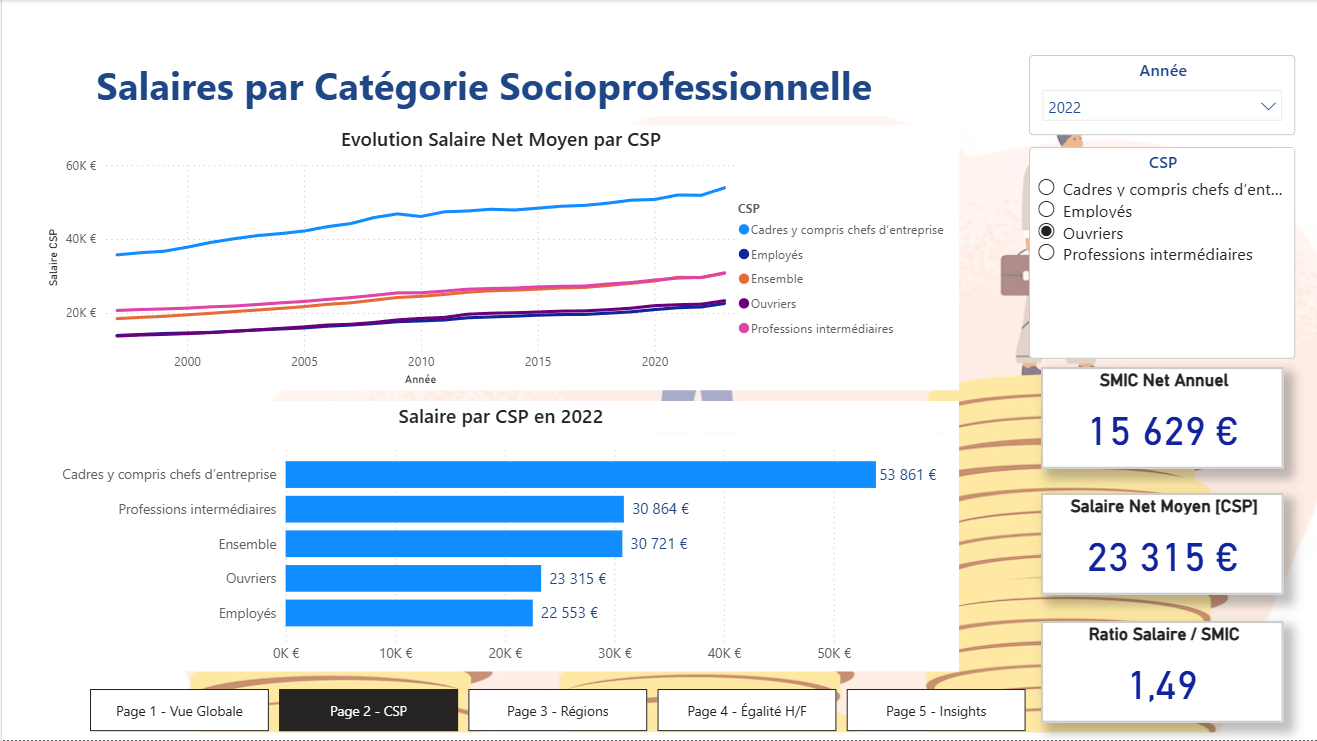

The dashboard page shown, as its layout file describes it:
{"tool":"powerbi","page":{"name":"Page 2 - CSP","canvas":[1280,720],"ordinal":1},"visuals":[{"type":"lineChart","title":"Evolution Salaire Net Moyen par CSP","fields":{"Y":["_Measure.Salaire CSP"],"Category":["SMIC.Date"],"Series":["Dim_CSP.Libelle"]},"box":[39.9,121.6,890.9,257.8],"z":0},{"type":"listSlicer","title":"CSP","fields":{"Values":["Dim_CSP.Libelle"]},"box":[998.6,142.5,259.3,205.9],"z":1000},{"type":"card","title":"Salaire Net Moyen [CSP]","fields":{"Values":["_Measure.Salaire CSP"]},"box":[1010.5,480,235.5,99],"z":2000},{"type":"card","title":"SMIC Net Annuel","fields":{"Values":["_Measure.SMIC"]},"box":[1010.5,357.3,235.5,99],"z":3000},{"type":"card","title":"Ratio Salaire / SMIC","fields":{"Values":["_Measure.Ratio Salaire CSP/Smic"]},"box":[1010.5,603.7,235.5,99],"z":4000},{"type":"textbox","box":[25.7,34.6,887.8,78.2],"z":5000},{"type":"slicer","title":"Année","fields":{"Values":["_Calendrier.Annee"]},"box":[998.6,53.4,259.3,78.2],"z":6000},{"type":"clusteredBarChart","title":"Salaire par CSP","fields":{"Category":["Dim_CSP.Libelle"],"Y":["_Measure.Salaire CSP"]},"box":[39.9,422.1,890.9,231.5],"z":7000},{"type":"card","fields":{"Values":["_Measure.Titre Dyna Bart Chart CSP"]},"box":[39.9,390,890.9,32.1],"z":8000},{"type":"pageNavigator","box":[85.6,670.2,913.3,41.8],"z":8001}]}

Visuals, with their boxes in screenshot pixels (x1, y1, x2, y2), scaled from the page's 1280x720 canvas onto the 1317x741 screenshot:
"Evolution Salaire Net Moyen par CSP" lineChart: BBox(41, 125, 958, 390)
"CSP" listSlicer: BBox(1027, 147, 1294, 359)
"Salaire Net Moyen [CSP]" card: BBox(1040, 494, 1282, 596)
"SMIC Net Annuel" card: BBox(1040, 368, 1282, 470)
"Ratio Salaire / SMIC" card: BBox(1040, 621, 1282, 723)
textbox: BBox(26, 36, 940, 116)
"Année" slicer: BBox(1027, 55, 1294, 135)
"Salaire par CSP" clusteredBarChart: BBox(41, 434, 958, 673)
card - _Measure.Titre Dyna Bart Chart CSP: BBox(41, 401, 958, 434)
pageNavigator: BBox(88, 690, 1028, 733)
